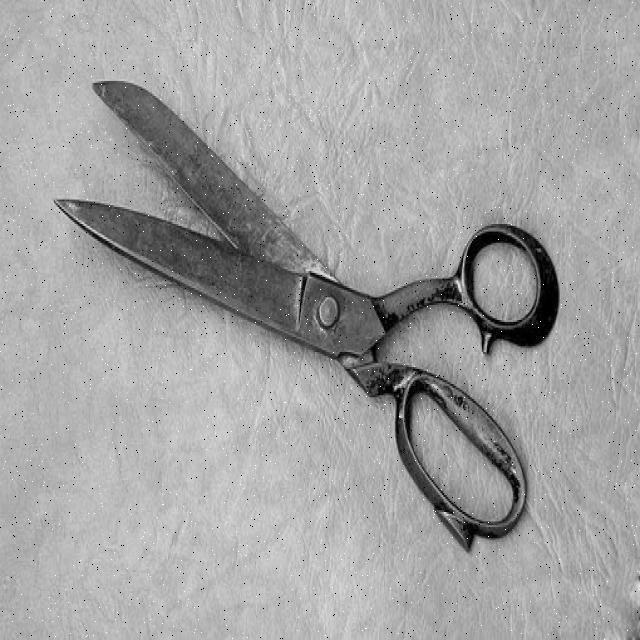scissors: (48, 72, 564, 558)
